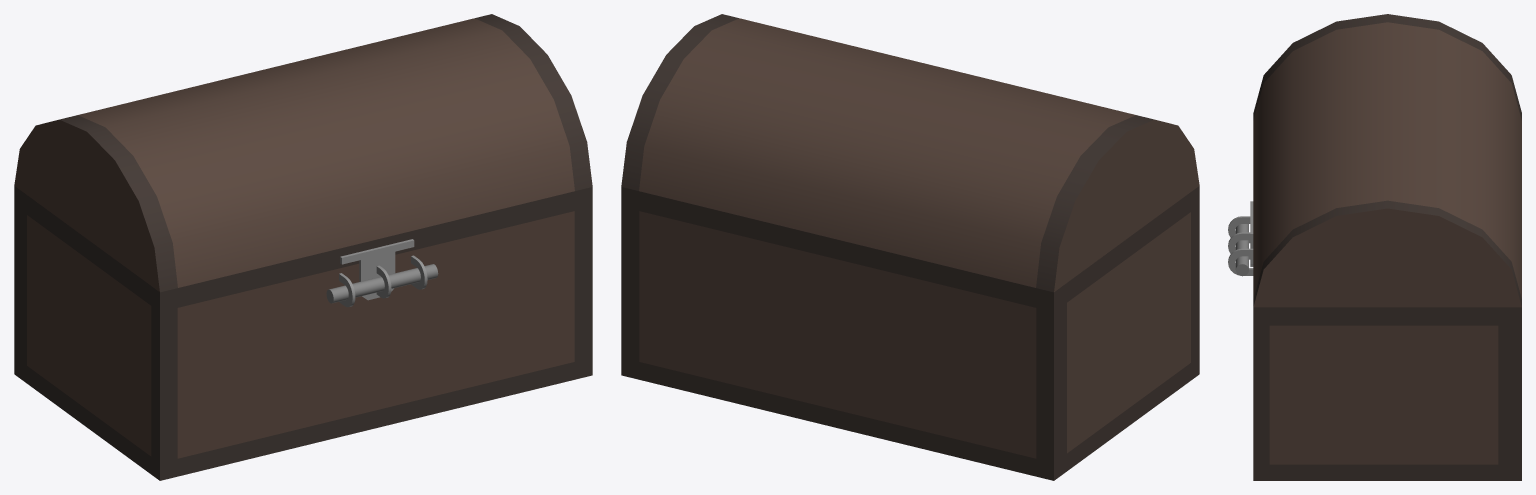
Rendered from truhe.fbx.
3 views of the same model, side by side, from view 1: azimuth 30°, elevation 25°; view 2: azimuth 150°, elevation 25°; view 3: azimuth 270°, elevation 25° (orthographic). The views are drawn at different scales.
Visible parts, largest first — view 1: truhe:chest1; view 2: truhe:chest1; view 3: truhe:chest1.
Part boxes in pixels (left/top/right/bottom): truhe:chest1: left=14, top=14, right=592, bottom=480; truhe:chest1: left=621, top=14, right=1199, bottom=480; truhe:chest1: left=1228, top=14, right=1521, bottom=480.
Bounding box in the file's own units: 63.12 × 41.24 × 40.3.
